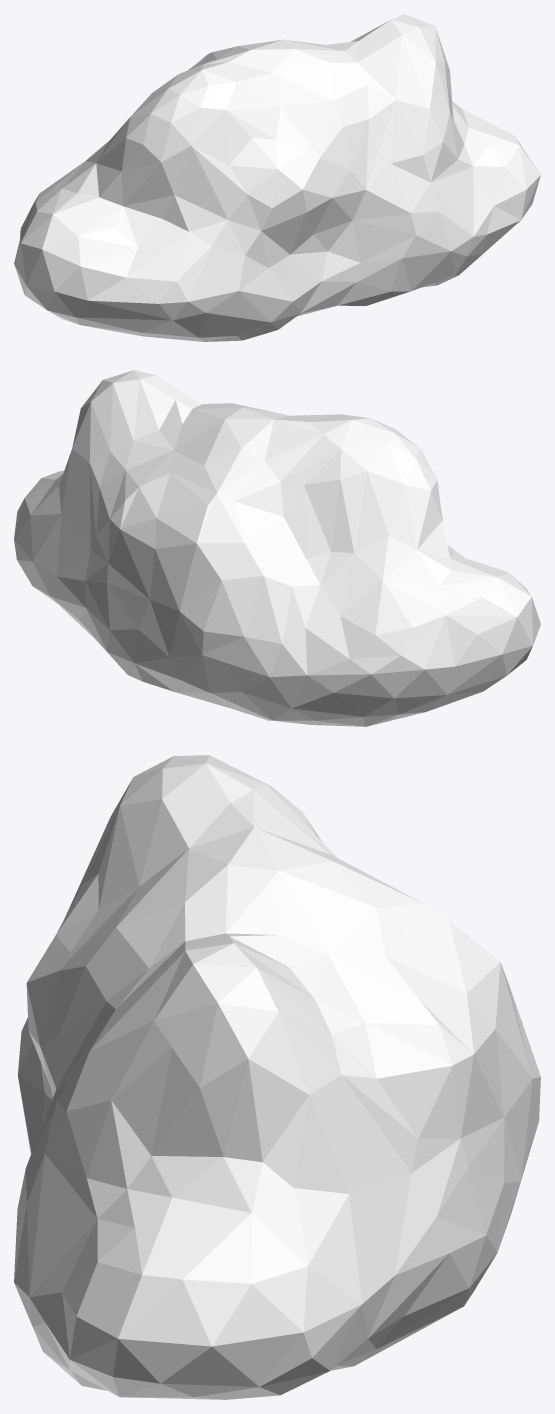
The model's file is Cloud_03.fbx.
3 renders of one model, top to bottom at view 1: azimuth 30°, elevation 25°; view 2: azimuth 150°, elevation 25°; view 3: azimuth 270°, elevation 25°, orthographic. The views are drawn at different scales.
Visible parts, largest first — view 1: Cloud_03; view 2: Cloud_03; view 3: Cloud_03.
Part boxes in pixels (left/top/right/bottom): Cloud_03: left=14, top=14, right=540, bottom=341; Cloud_03: left=14, top=370, right=540, bottom=726; Cloud_03: left=14, top=755, right=540, bottom=1399.
Bounding box in the file's own units: 4.33 × 2.1 × 2.2.
